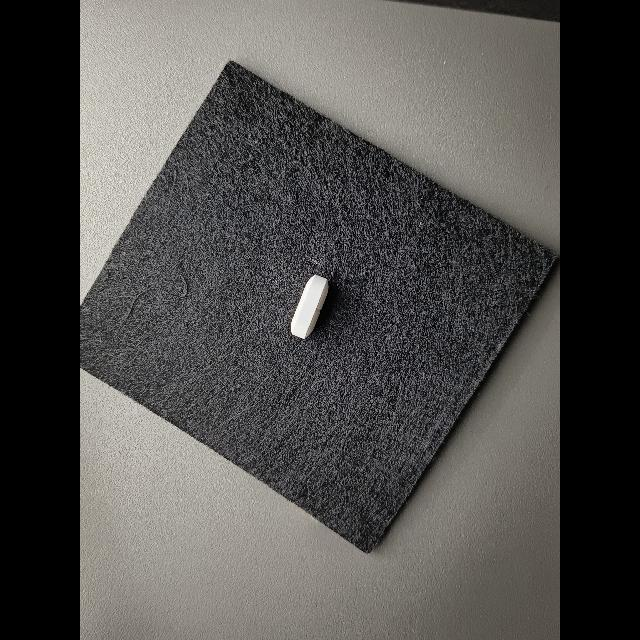Intact Pill: (290, 274, 329, 340)
